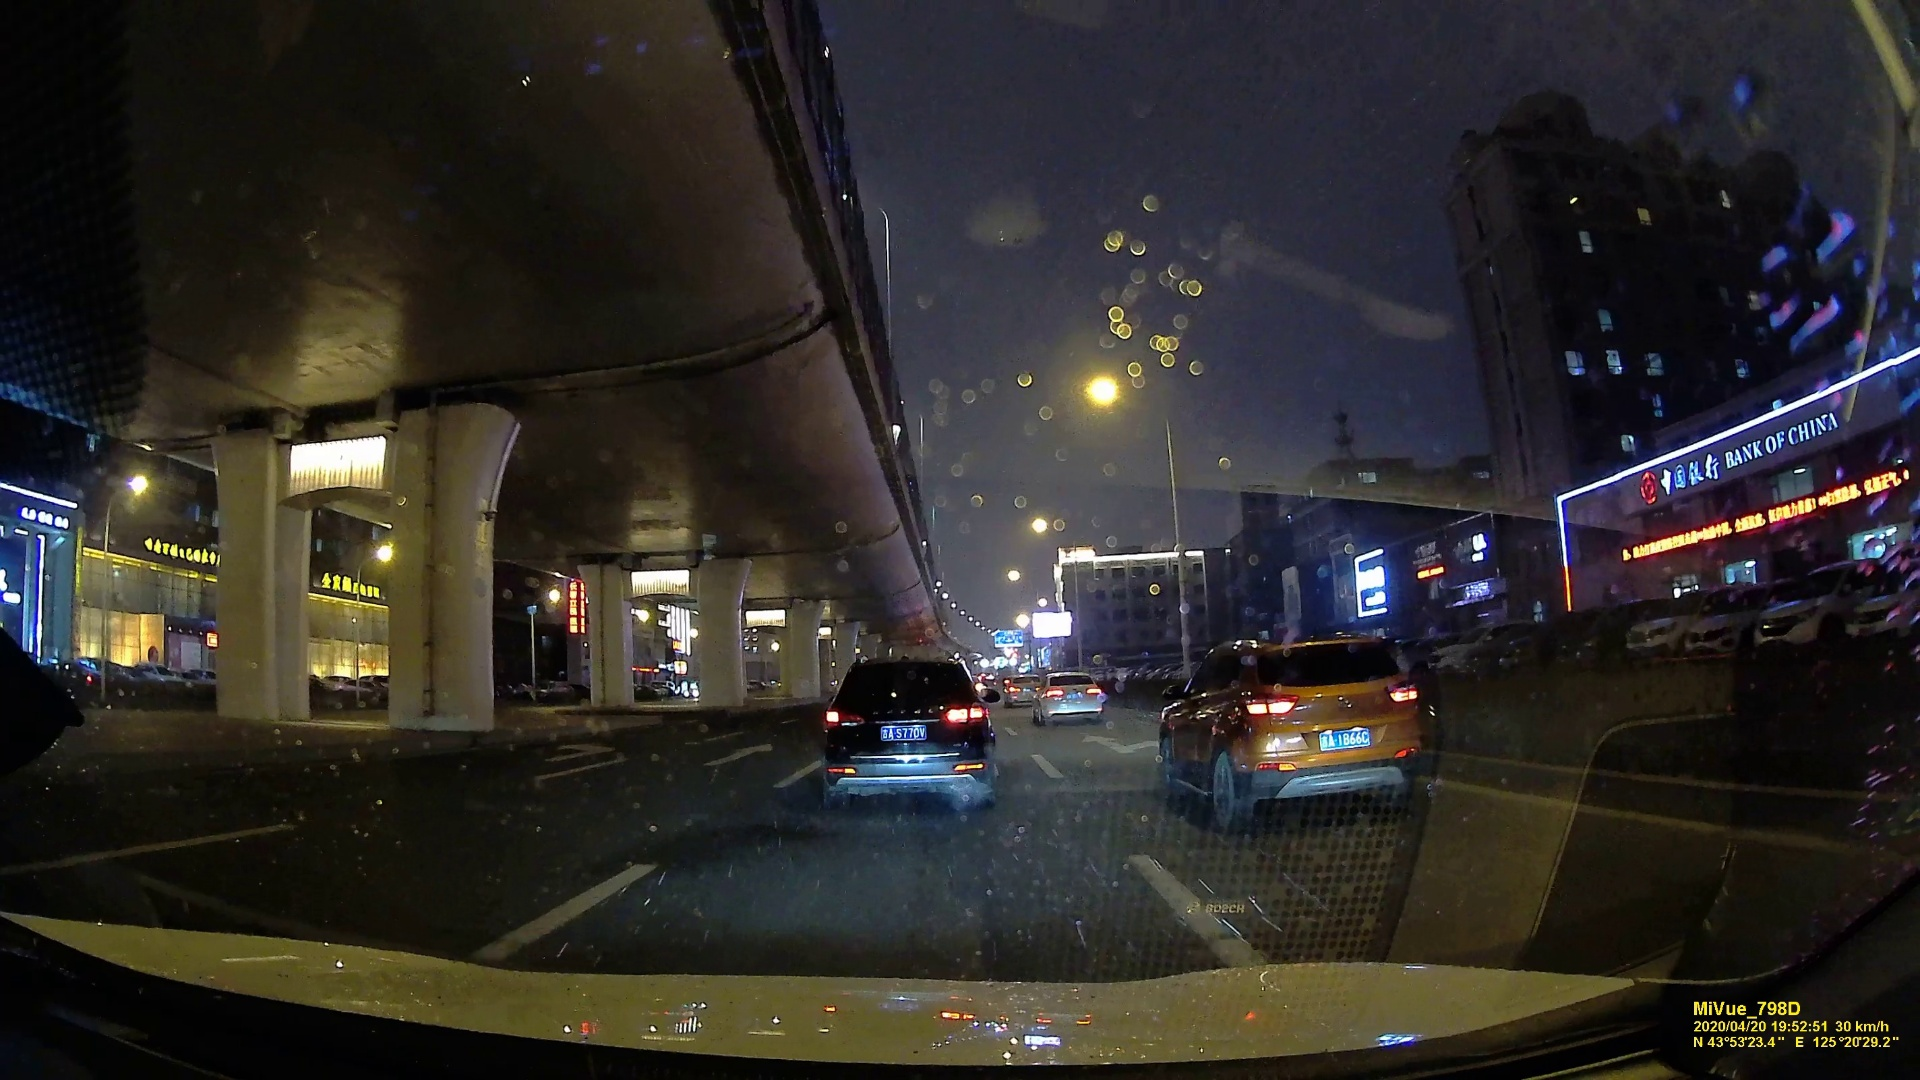traffic_sign: (996, 630, 1023, 647)
vehicle: (1153, 636, 1433, 833), (814, 653, 1002, 818), (1030, 670, 1102, 723)
